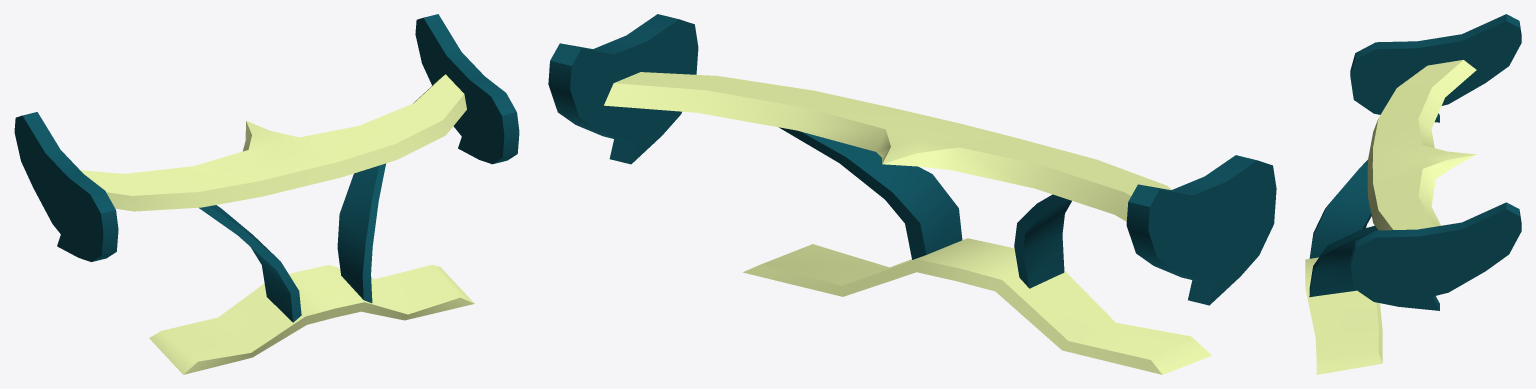
The model's file is LuxSpoiler02R01.gltf.
The picture shows the model from 3 angles, left to right: view 1: azimuth 30°, elevation 25°; view 2: azimuth 150°, elevation 25°; view 3: azimuth 270°, elevation 25°; orthographic projection. The views are drawn at different scales.
Parts seen in each view (by area): view 1: LuxSpoiler02R01; view 2: LuxSpoiler02R01; view 3: LuxSpoiler02R01.
Part boxes in pixels (x1,y1,x2,y2): LuxSpoiler02R01: [14, 14, 519, 374]; LuxSpoiler02R01: [548, 14, 1276, 374]; LuxSpoiler02R01: [1305, 14, 1521, 374].
Size of the model in its own units: 0.1732 by 0.0806 by 0.0811.
